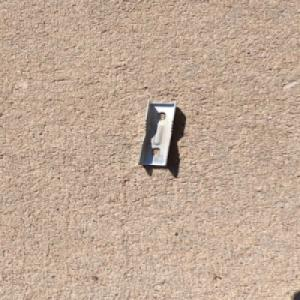ClampPart: (137, 99, 179, 167)
